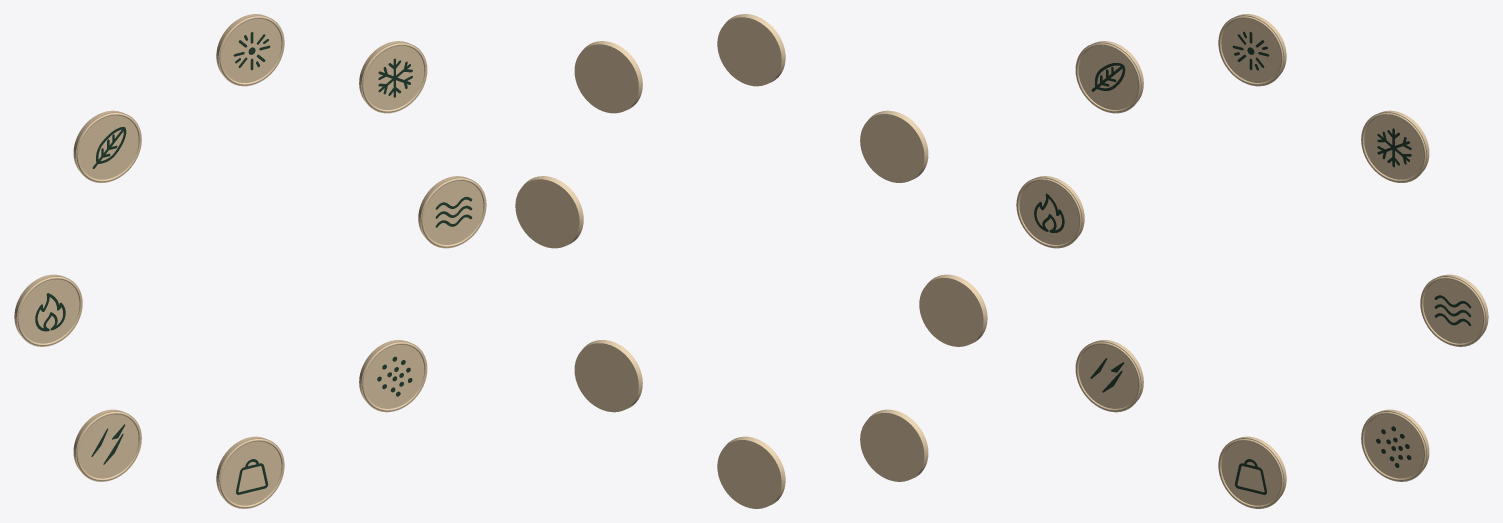
The model's file is sensation_tokens.glb.
3 views of the same model, side by side, from view 1: azimuth 30°, elevation 25°; view 2: azimuth 150°, elevation 25°; view 3: azimuth 330°, elevation 25° (orthographic).
Visible parts, largest first — view 1: cold, heat, sharp, waves, tingle, energy, lightness, weight; view 2: waves, sharp, cold, heat, lightness, weight, tingle, energy; view 3: waves, lightness, tingle, sharp, heat, energy, cold, weight.
Part boxes in pixels (<box>): cold: <box>359,41,427,113</box>; heat: <box>14,274,82,346</box>; sharp: <box>73,409,141,481</box>; waves: <box>418,176,486,248</box>; tingle: <box>359,340,427,412</box>; energy: <box>216,14,284,86</box>; lightness: <box>73,110,141,182</box>; weight: <box>216,436,284,508</box>; waves: <box>515,176,583,248</box>; sharp: <box>860,409,928,481</box>; cold: <box>574,41,642,113</box>; heat: <box>919,274,987,346</box>; lightness: <box>860,110,928,182</box>; weight: <box>717,436,785,508</box>; tingle: <box>574,340,642,412</box>; energy: <box>717,14,785,86</box>; waves: <box>1420,274,1488,346</box>; lightness: <box>1075,41,1143,113</box>; tingle: <box>1361,409,1429,481</box>; sharp: <box>1075,340,1143,412</box>; heat: <box>1016,176,1084,248</box>; energy: <box>1218,14,1286,86</box>; cold: <box>1361,110,1429,182</box>; weight: <box>1218,436,1286,508</box>.
Bounding box in the file's own units: 2.21 × 2.21 × 0.0302.
